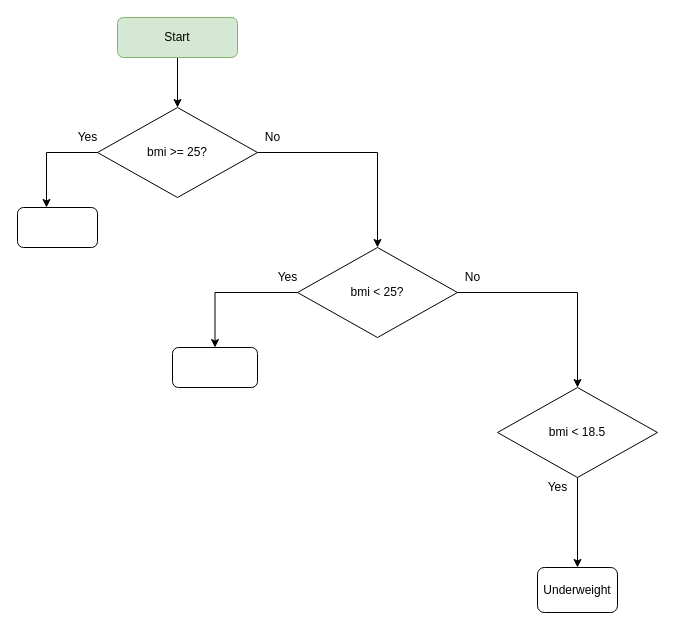
Image size: 675x630. Some labels were removed from this diagram. Each missing label, with the box of its shape:
Normal Weight: (172, 346, 258, 388)
Overweight: (16, 206, 98, 248)
